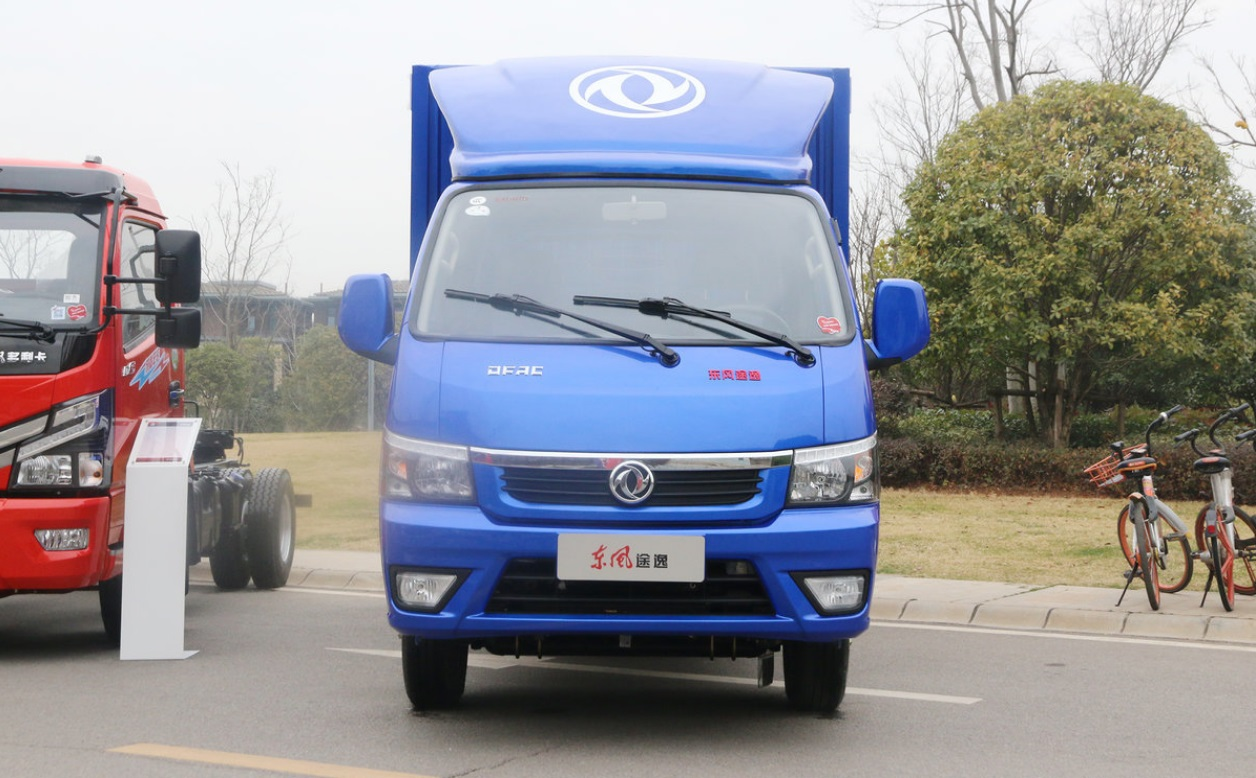truck: (337, 54, 933, 733)
